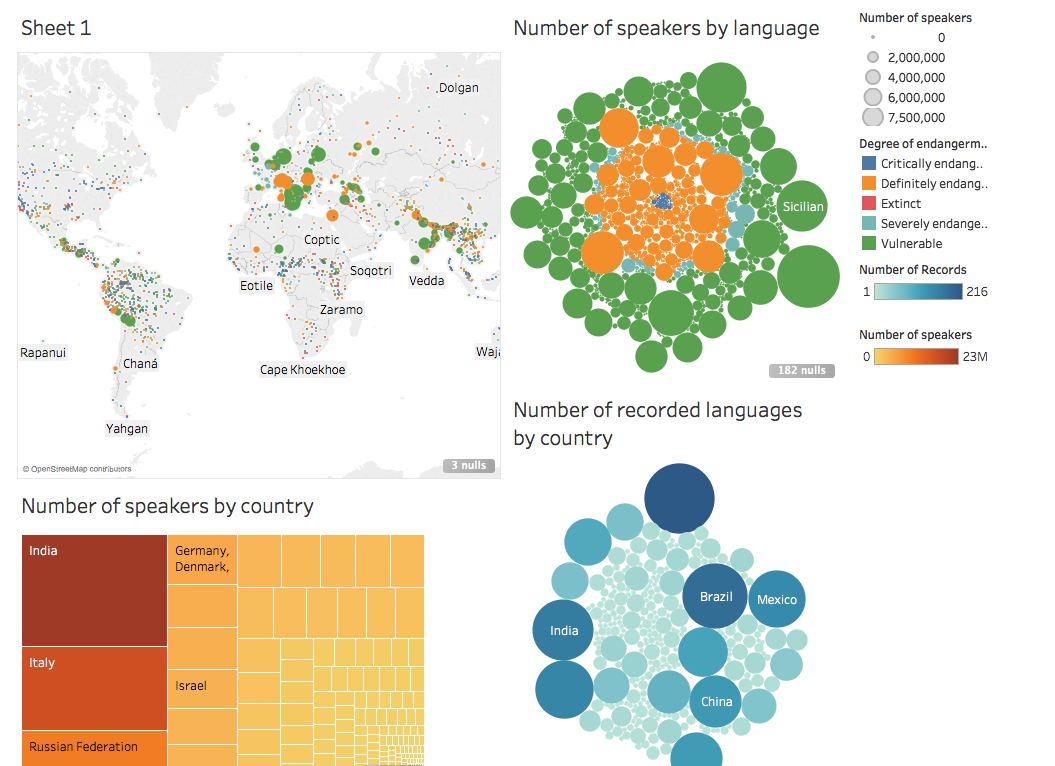

What the dashboard file says about the page in this screenshot:
{"tool":"tableau","page":{"name":"Dashboard 1","canvas":[1000,800],"ordinal":0},"visuals":[{"type":"worksheet","title":"Sheet 1","mark":"Automatic","rows":["Latitude"],"cols":["Longitude"],"box":[8,8,478,478]},{"type":"worksheet","title":"Sheet 2","mark":"Circle","box":[486,8,346,382]},{"type":"legend","title":"Sheet 1","param":"[federated.0ep6ylv1z0f6k81129lmw1gdjpip].[sum:Number of speakers:qk]","box":[832,8,160,126]},{"type":"legend","title":"Sheet 1","param":"[federated.0ep6ylv1z0f6k81129lmw1gdjpip].[none:Degree of endangerment:nk]","box":[832,134,160,126]},{"type":"legend","title":"Sheet 3","param":"[federated.0ep6ylv1z0f6k81129lmw1gdjpip].[sum:Number of Records:qk]","box":[832,260,160,65]},{"type":"legend","title":"Sheet 4","param":"[federated.0ep6ylv1z0f6k81129lmw1gdjpip].[sum:Number of speakers:qk]","box":[832,325,160,65]},{"type":"worksheet","title":"Sheet 3","mark":"Circle","box":[486,390,346,402]},{"type":"worksheet","title":"Sheet 4","mark":"Automatic","box":[8,486,478,306]}]}

Visuals, with their boxes on the page's 1000x800 design canvas (x1, y1, x2, y2). These are canvas units, not pixel positions in the 1055x766 screenshot, which may show the page scaled, cropped or inside an application window:
"Sheet 1" worksheet: [left=8, top=8, right=486, bottom=486]
"Sheet 2" worksheet (Circle marks): [left=486, top=8, right=832, bottom=390]
"Sheet 1" legend: [left=832, top=8, right=992, bottom=134]
"Sheet 1" legend: [left=832, top=134, right=992, bottom=260]
"Sheet 3" legend: [left=832, top=260, right=992, bottom=325]
"Sheet 4" legend: [left=832, top=325, right=992, bottom=390]
"Sheet 3" worksheet (Circle marks): [left=486, top=390, right=832, bottom=792]
"Sheet 4" worksheet: [left=8, top=486, right=486, bottom=792]
